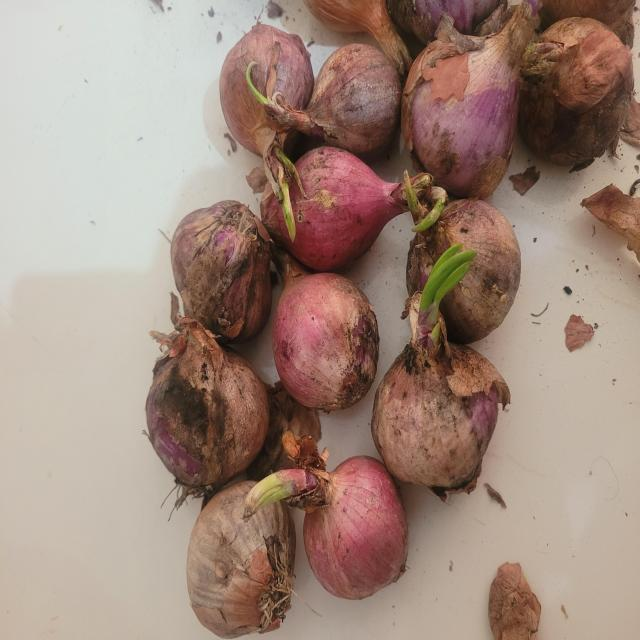rotten: (371, 244, 510, 501), (401, 0, 537, 199), (146, 315, 270, 497), (146, 315, 269, 496), (220, 23, 314, 239), (271, 242, 379, 410), (247, 44, 401, 160), (518, 17, 634, 169), (187, 480, 296, 639), (406, 199, 521, 344), (171, 200, 271, 342)
sprouting: (243, 431, 408, 599), (260, 146, 409, 272), (410, 173, 448, 210)
